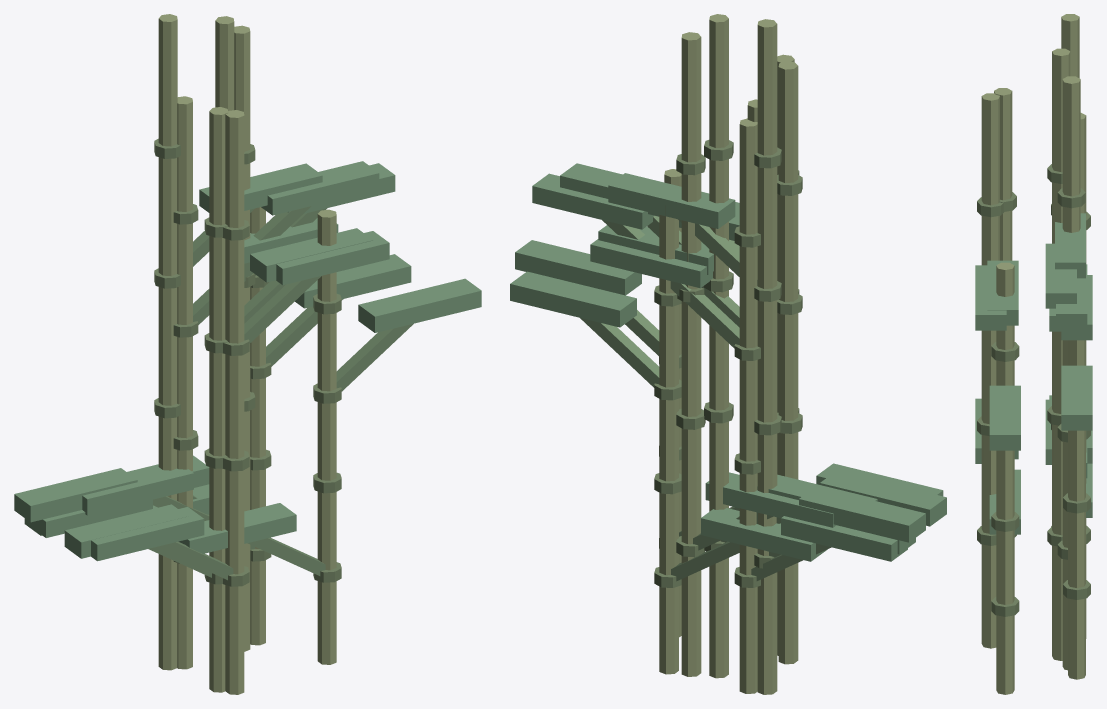
The model's file is bambu_bosque.glb.
The picture shows the model from 3 angles, left to right: view 1: azimuth 30°, elevation 25°; view 2: azimuth 150°, elevation 25°; view 3: azimuth 270°, elevation 25°; orthographic projection. The views are drawn at different scales.
Visible parts, largest first — view 1: part_072, part_063, part_036, part_054, part_045, part_018, part_061, part_009, part_066, part_034, part_030, part_075 (+16 smaller); view 2: part_063, part_009, part_036, part_027, part_000, part_018, part_025, part_070, part_066, part_061, part_021, part_007 (+16 smaller); view 3: part_072, part_054, part_027, part_018, part_009, part_036, part_025, part_061, part_070, part_034, part_043, part_079 (+17 smaller).
Boxes of the visible parts, x1,y1,x2,y2 form: part_072: [225, 110, 244, 694]; part_063: [158, 14, 177, 670]; part_036: [209, 107, 228, 692]; part_054: [317, 209, 336, 664]; part_045: [177, 96, 192, 669]; part_018: [250, 207, 265, 645]; part_061: [358, 278, 481, 332]; part_009: [234, 25, 250, 651]; part_066: [14, 468, 137, 522]; part_034: [261, 161, 379, 215]; part_030: [82, 466, 193, 515]; part_075: [91, 507, 204, 561]; part_063: [757, 19, 777, 694]; part_009: [681, 32, 701, 676]; part_036: [778, 61, 798, 664]; part_027: [709, 14, 728, 678]; part_000: [739, 118, 757, 693]; part_018: [659, 205, 678, 674]; part_025: [510, 271, 636, 327]; part_070: [608, 173, 735, 228]; part_066: [799, 486, 925, 542]; part_061: [515, 240, 641, 295]; part_021: [701, 508, 827, 561]; part_007: [590, 239, 712, 288]; part_072: [981, 93, 999, 648]; part_054: [996, 262, 1014, 694]; part_027: [1052, 48, 1070, 660]; part_018: [1068, 340, 1085, 679]; part_009: [1062, 76, 1080, 670]; part_036: [994, 88, 1012, 260]; part_025: [1061, 365, 1092, 430]; part_061: [989, 385, 1020, 450]; part_070: [1055, 213, 1085, 278]; part_034: [1045, 243, 1076, 308]; part_043: [987, 260, 1018, 325]; part_079: [975, 265, 1006, 330].
Bounding box in the file's own units: 2.93 × 4.35 × 0.7513.
